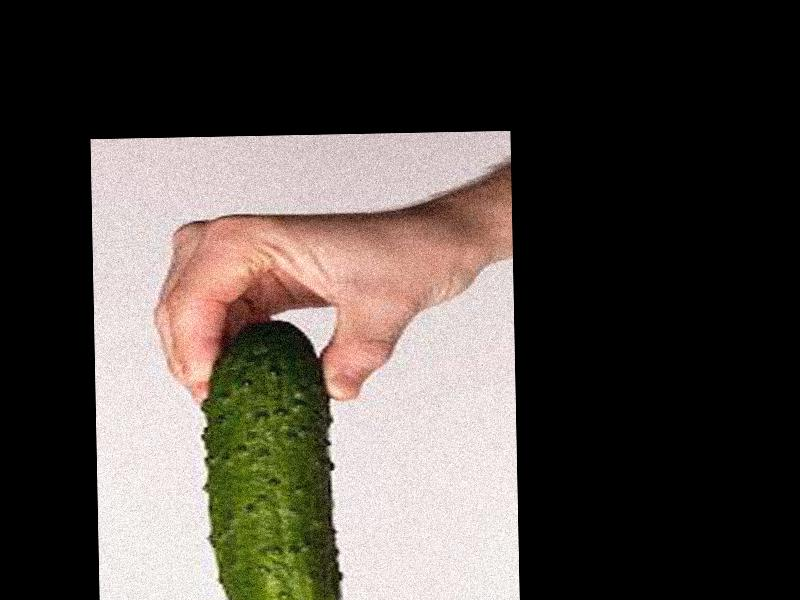Cucumber: (202, 319, 331, 600)
